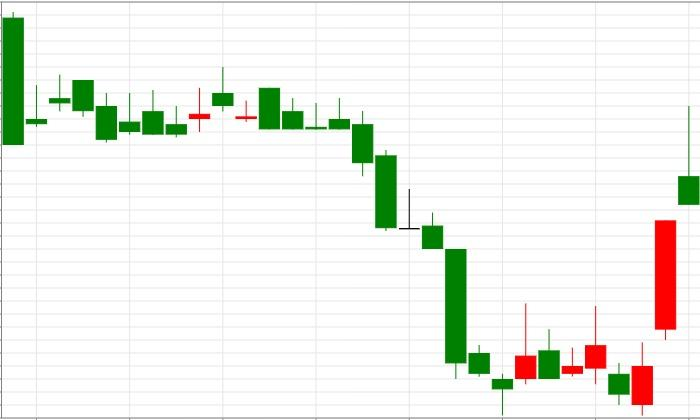bullish_engulfing_rise: (514, 302, 654, 416)
shooting_star_fall: (631, 106, 700, 416)
